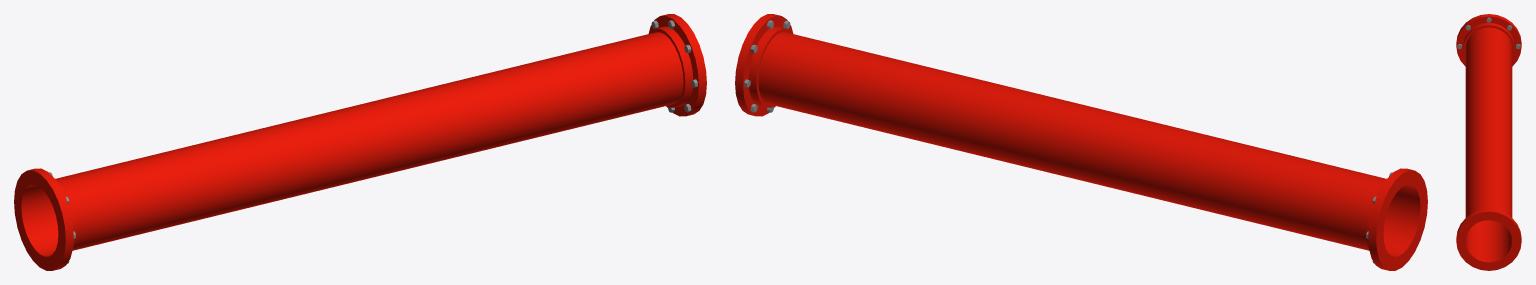
Rendered from Pipe_200_Straight_1m.fbx.
The picture shows the model from 3 angles, left to right: view 1: azimuth 30°, elevation 25°; view 2: azimuth 150°, elevation 25°; view 3: azimuth 270°, elevation 25°; orthographic projection. The views are drawn at different scales.
Parts seen in each view (by area): view 1: Pipe_200_Straight_1m; view 2: Pipe_200_Straight_1m; view 3: Pipe_200_Straight_1m.
Part boxes in pixels (box(x1,y1,x2,y2)): Pipe_200_Straight_1m: box(14, 14, 706, 270); Pipe_200_Straight_1m: box(735, 14, 1427, 270); Pipe_200_Straight_1m: box(1456, 14, 1521, 270).
Size of the model in its own units: 2 by 0.28 by 0.28.
